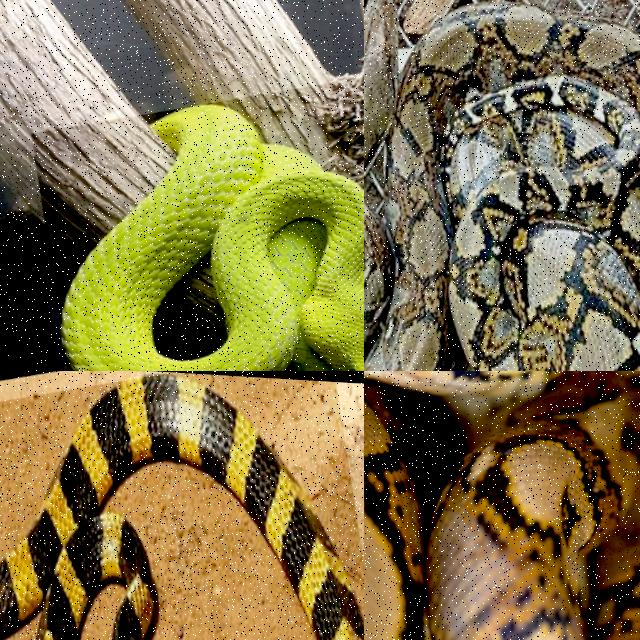Bungarus fasciatus: (0, 375, 363, 639)
Malayopython reticulatus: (364, 0, 639, 370), (364, 371, 639, 639)
Trimeresurus: (61, 105, 363, 370)
